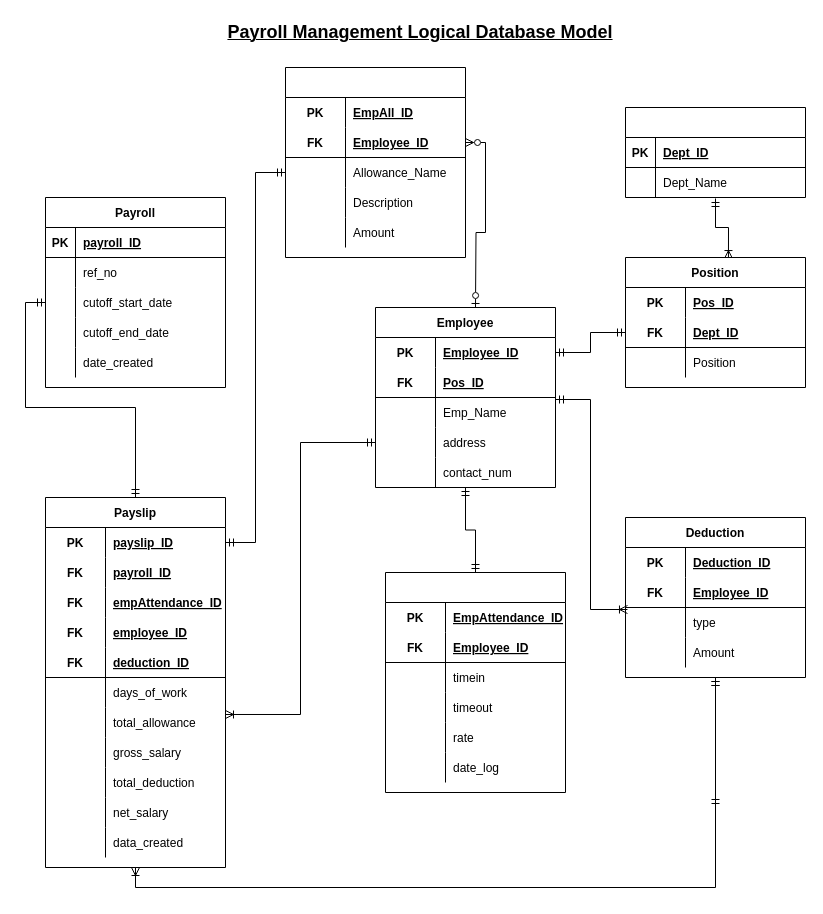
Image size: 823x914. Some labels were removed from this diagram. The shapes that lost their labels are listed below. From the top down, each one's box as (x1, y1, x2, y2) in pixels, then its label:
(284, 66, 466, 258): Employee Allowance
(624, 106, 806, 198): Department
(384, 572, 566, 792): Employee Attendance
